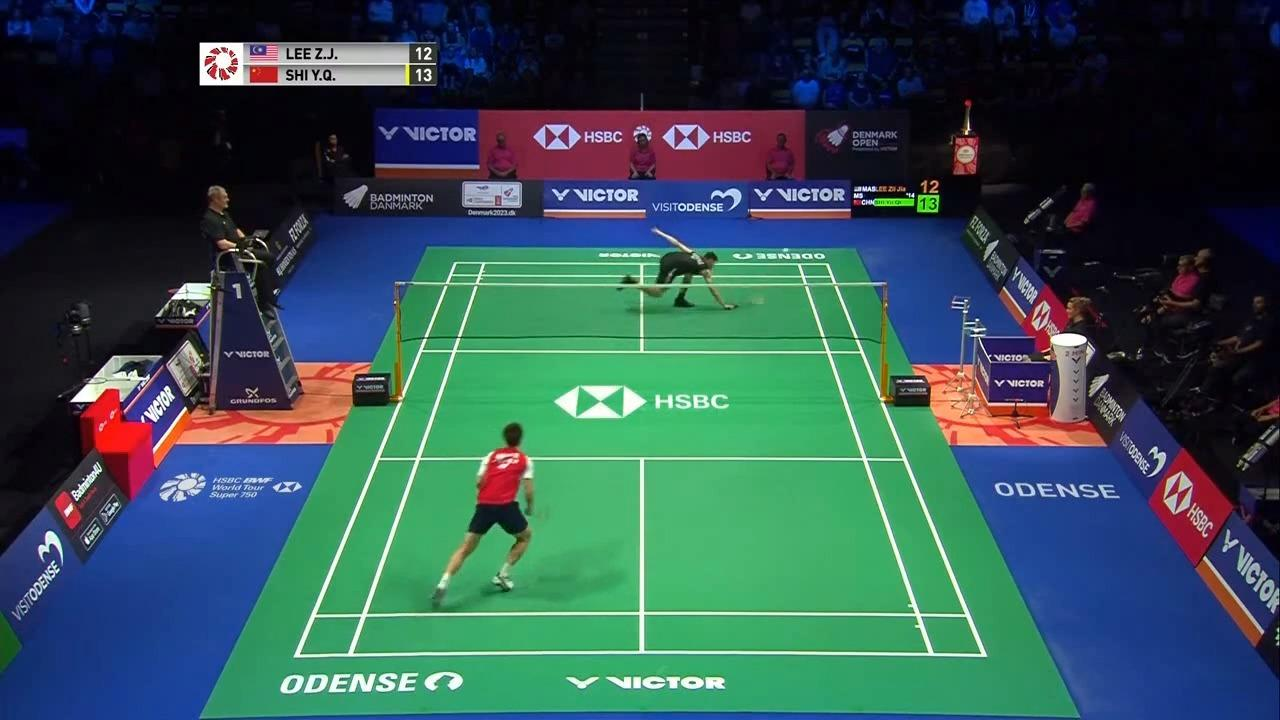shuttle: (781, 246, 790, 256)
